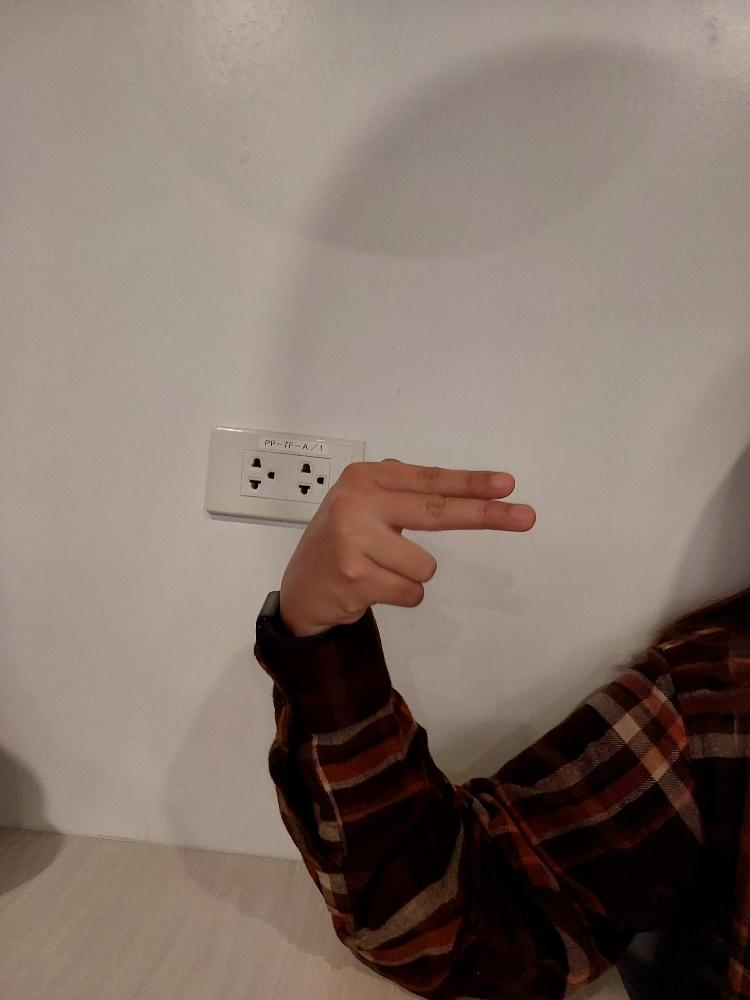h: (275, 453, 540, 626)
